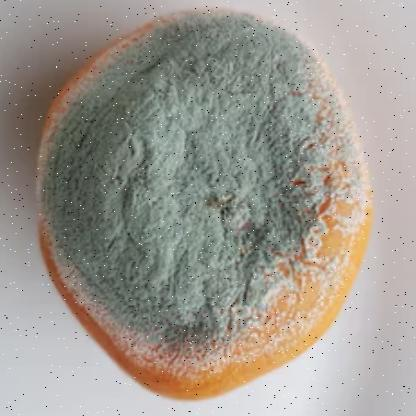rotten: (32, 10, 375, 400)
